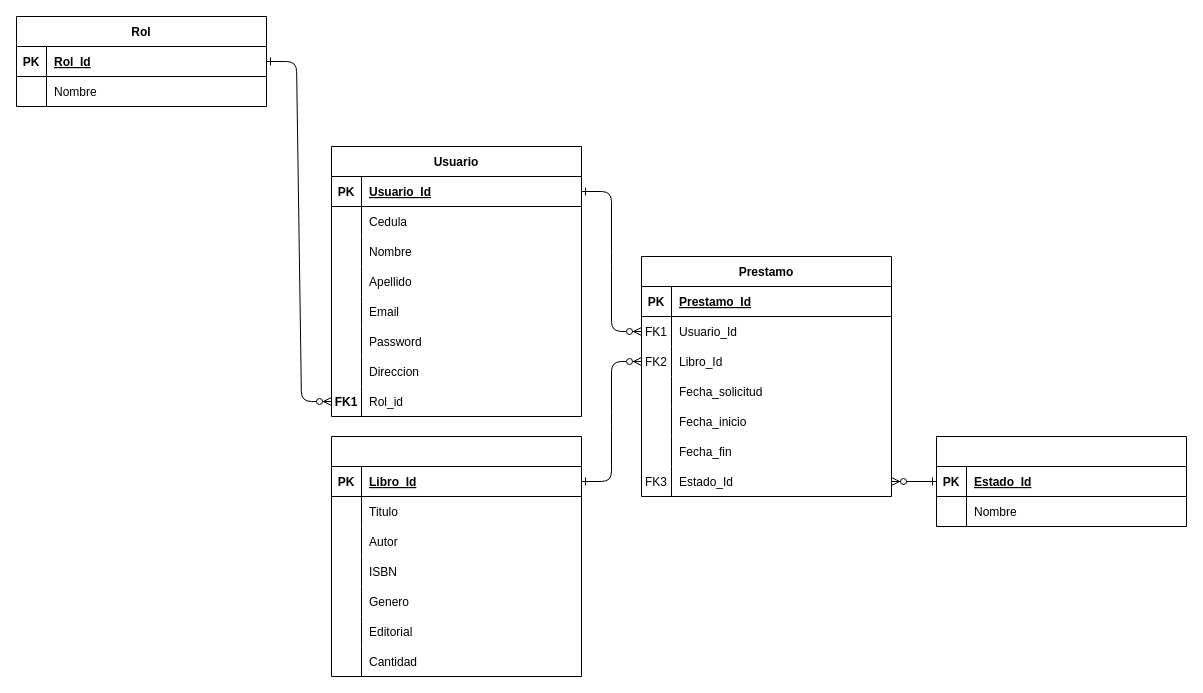
Image size: 1203x693. Some labels were removed from this diagram. The box of each missing label's shape, as (x1, y1, x2, y2) in pixels:
Estado_prestamo: (936, 436, 1186, 526)
Libros: (330, 436, 582, 676)
